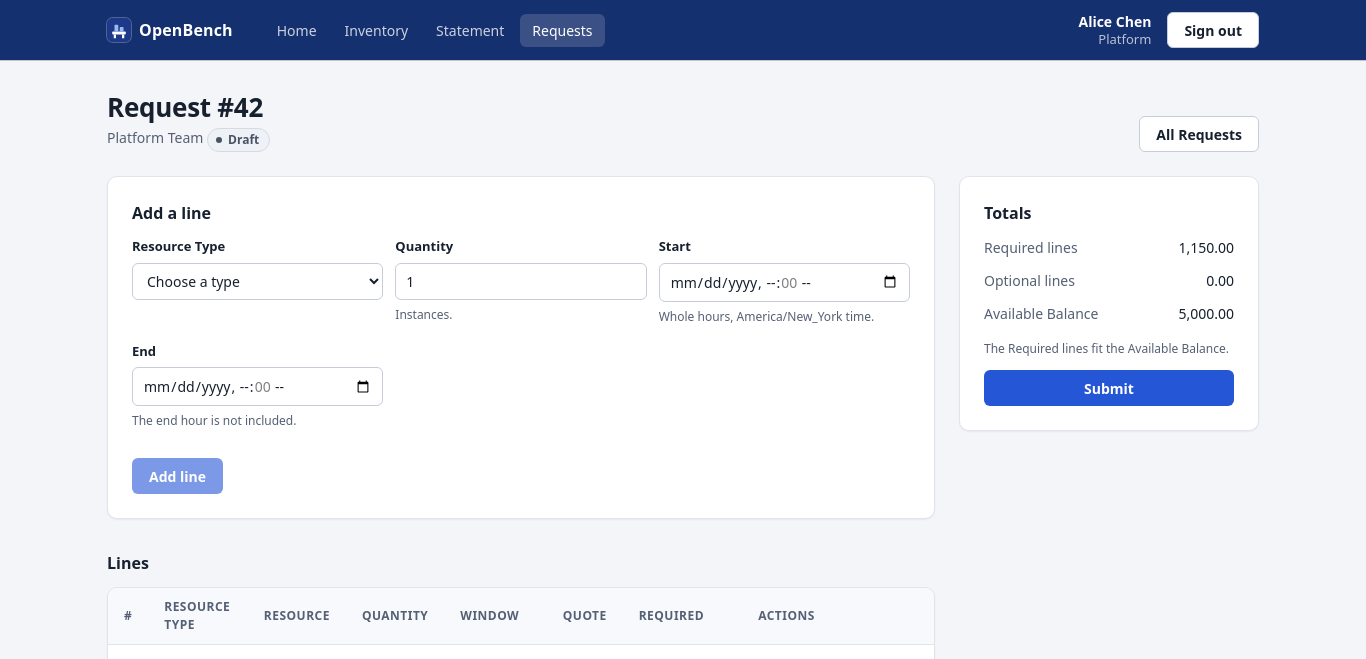
Test: RequestPage, the Draft editor › shows a refused line as the server words it
Select "GPU (Metered)" in the dropdown labelled "Resource Type" at coordinates (258, 281), box [132, 263, 383, 300]
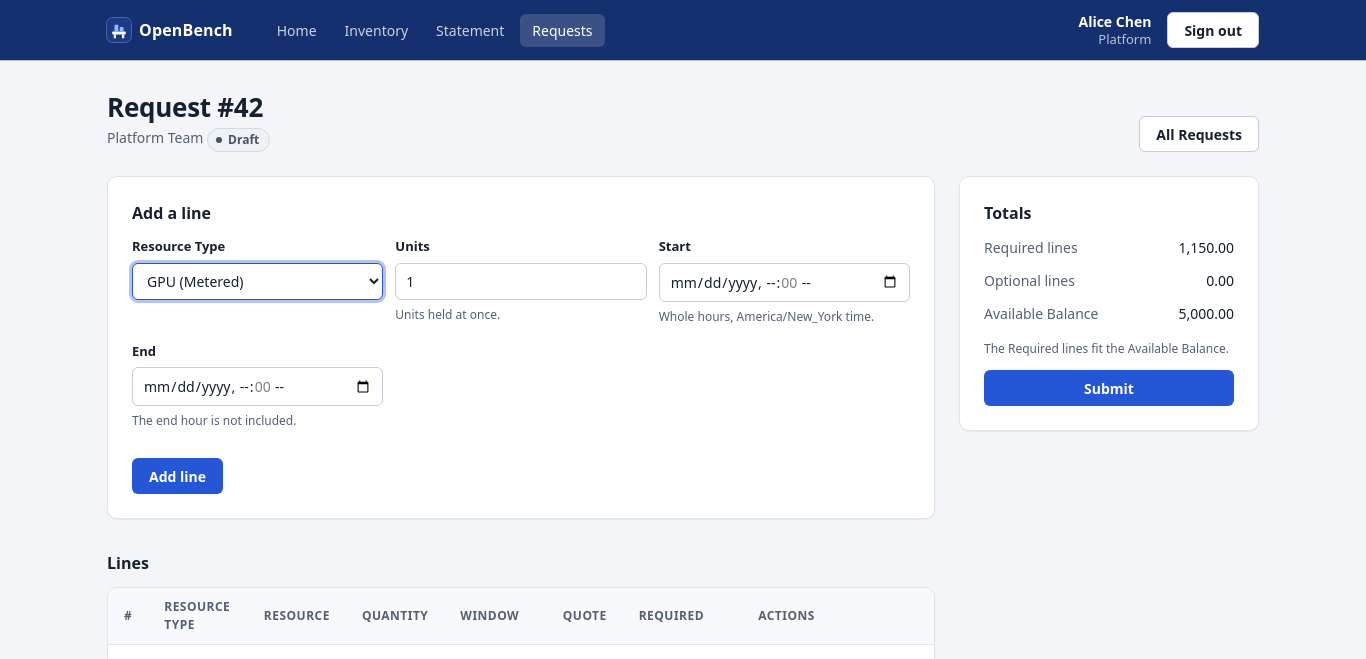
Type "2020-10-27T09:00" into the field labelled "Start" at coordinates (784, 282), box [659, 263, 910, 302]
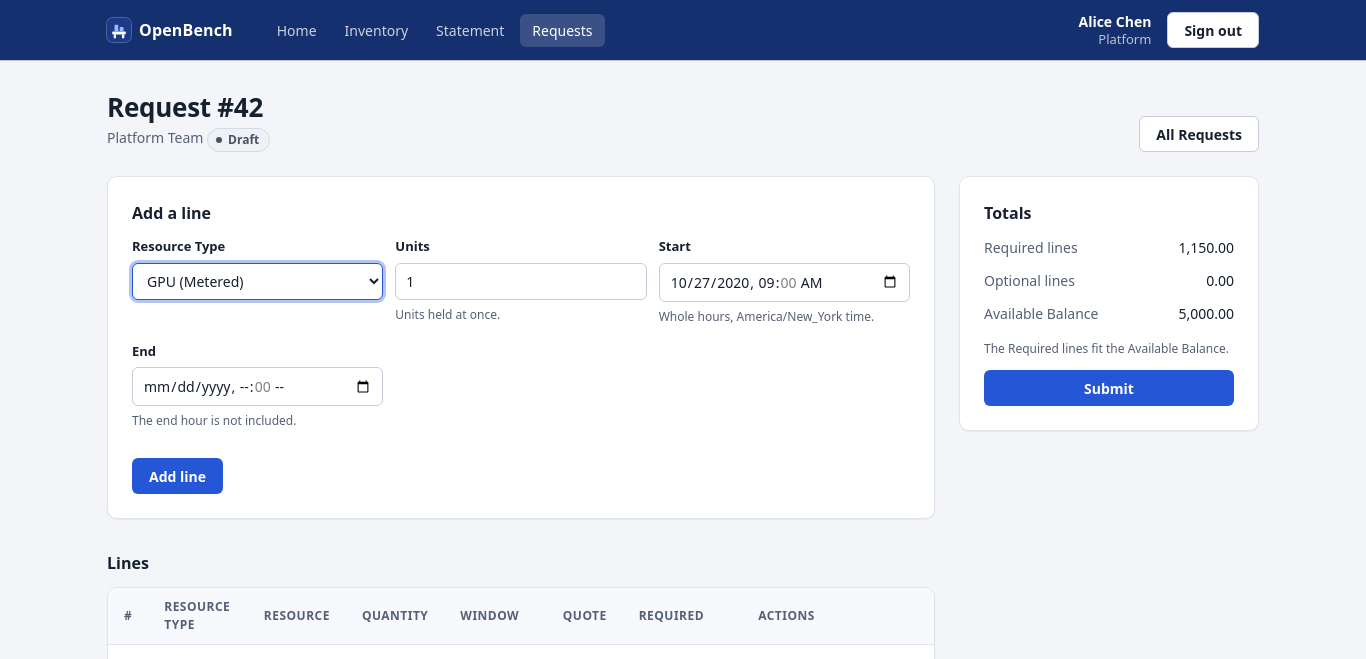
Type "2020-10-27T10:00" into the field labelled "End" at coordinates (258, 387), box [132, 367, 383, 406]
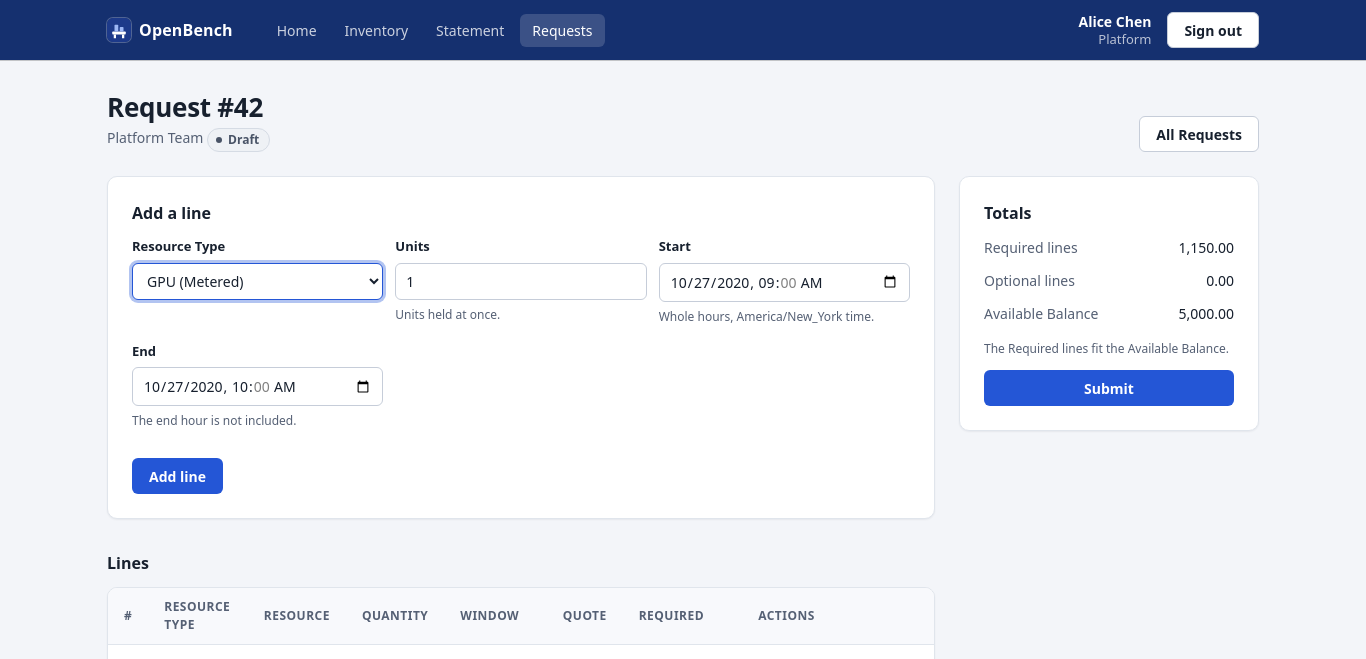
Click the button "Add line" at coordinates (178, 476), box [132, 458, 223, 494]
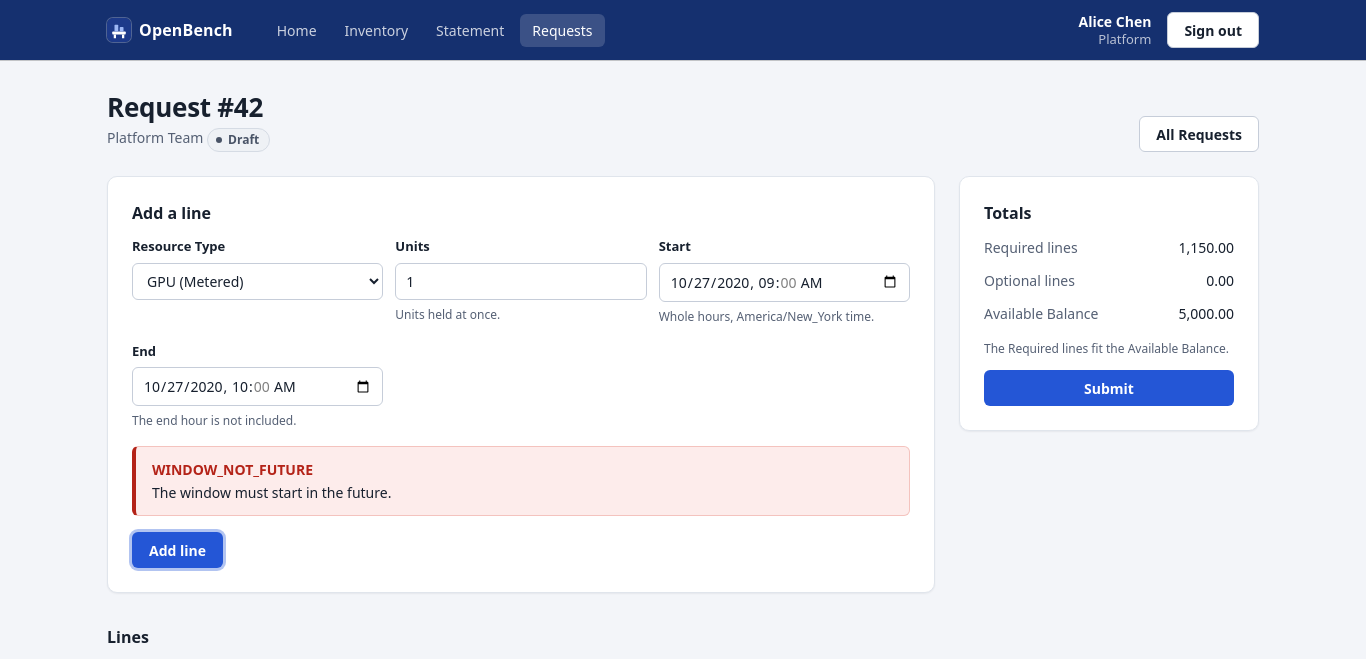
Result: the text "The window must start in the future." is shown at [152, 483, 391, 502]
